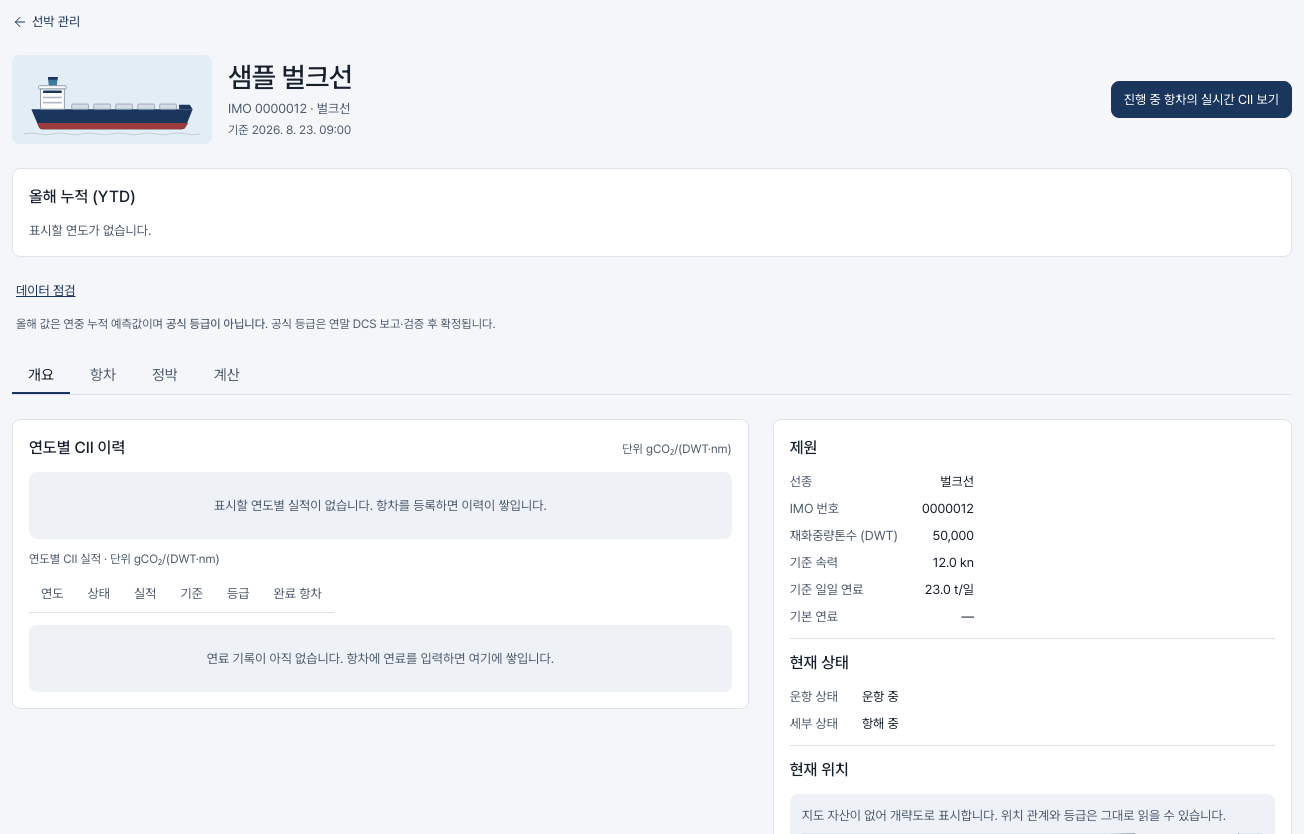
Test: 실시간 CII 입구 (#588 · #1415) › 다시 누르면 닫힌다
Click the button "진행 중 항차의 실시간 CII 보기": (1201, 100) [1111,81,1292,118]
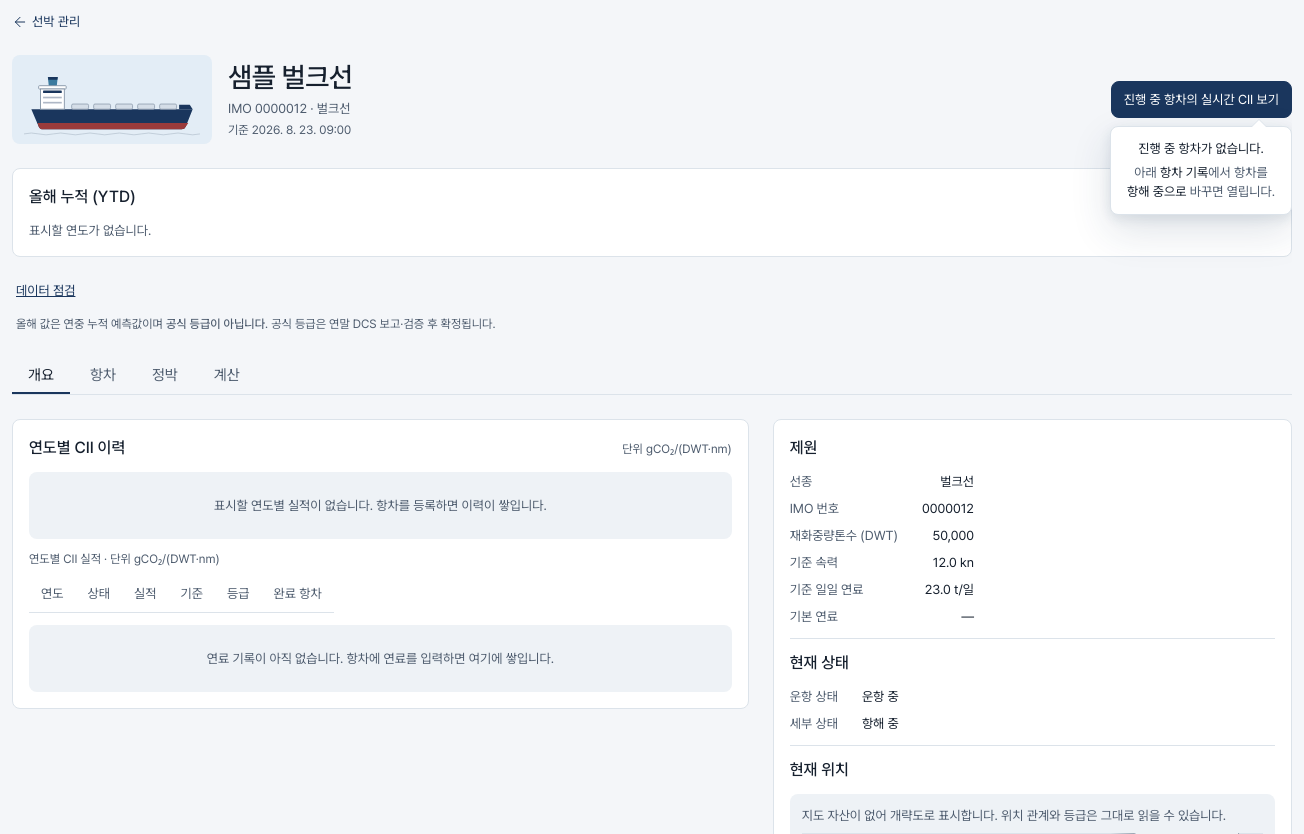
Click the button "진행 중 항차의 실시간 CII 보기": (1201, 100) [1111,81,1292,118]
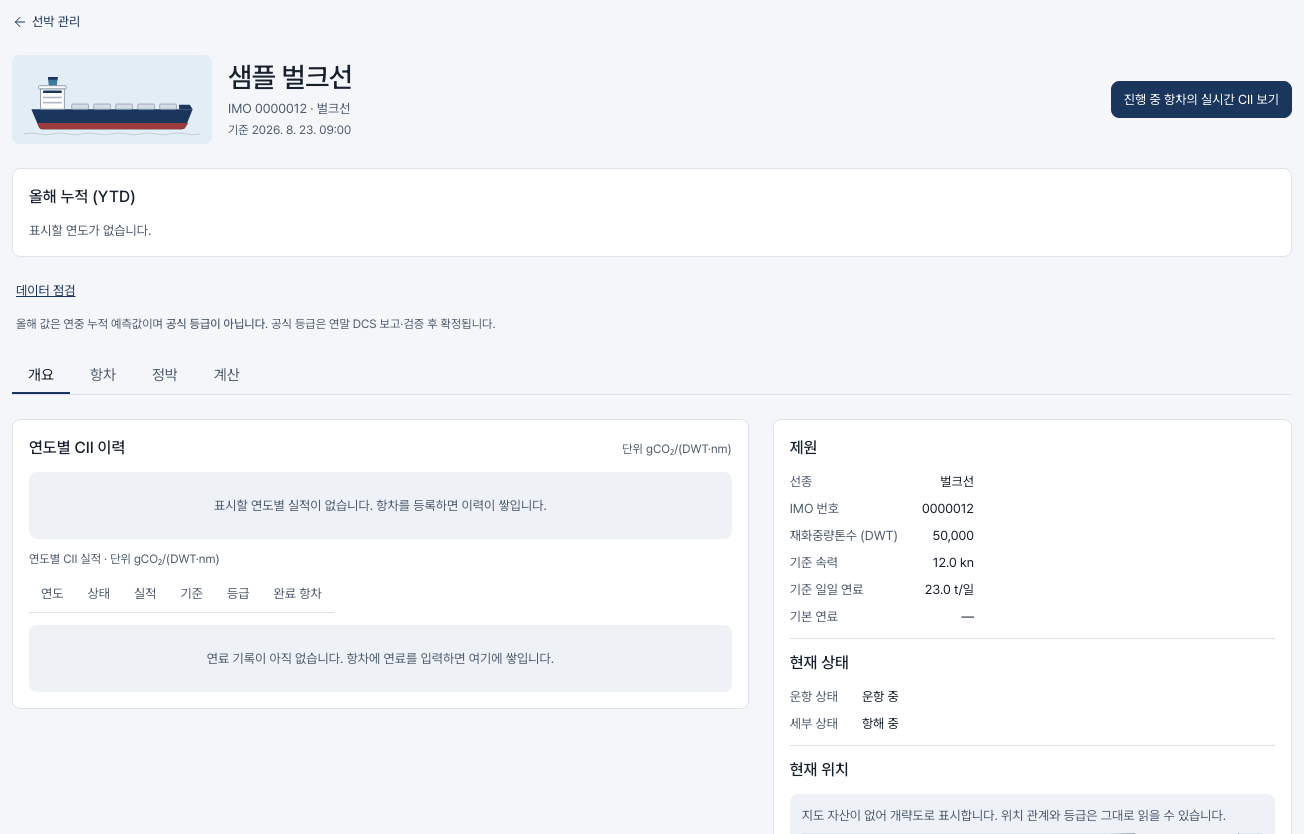
Check: the text "진행 중 항차가 없습니다" is gone
